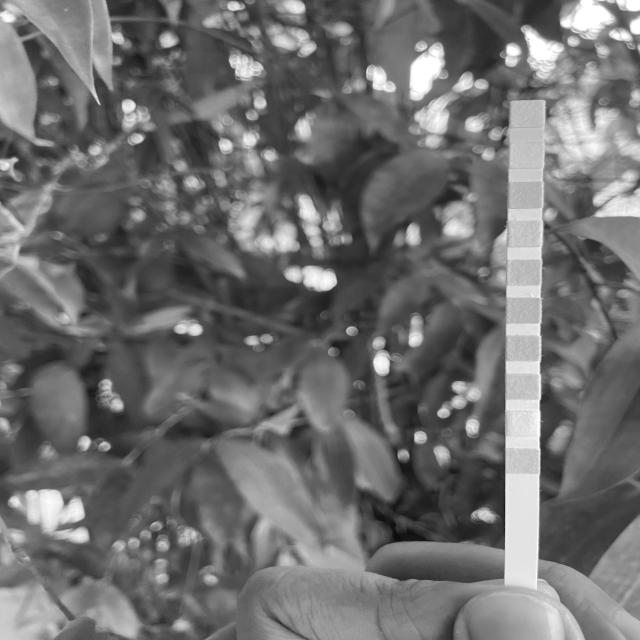Bilirubin: (506, 411, 540, 436)
Blood: (507, 298, 541, 323)
Glucose: (506, 448, 539, 474)
Ketone: (506, 374, 540, 399)
Leukocytes: (511, 101, 544, 128)
Nitrite: (509, 143, 544, 168)
Protein: (508, 222, 542, 246)
SpGravity: (506, 336, 541, 361)
Urobilinogen: (508, 183, 542, 208)
background: (0, 0, 640, 640)
pH: (508, 260, 542, 286)
strip: (504, 101, 545, 561)
